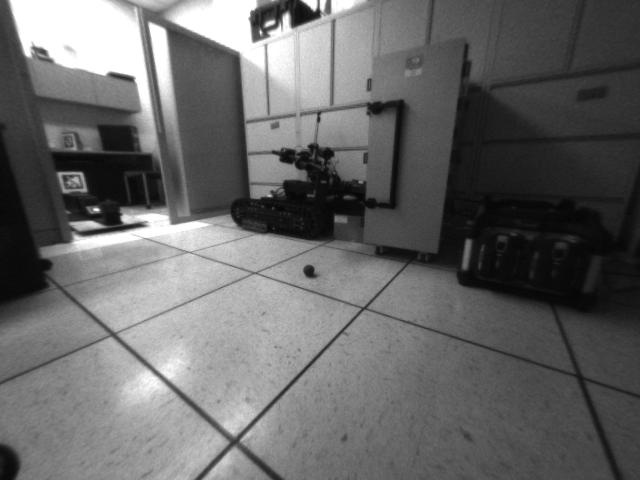dogtoy: (299, 259, 323, 283)
